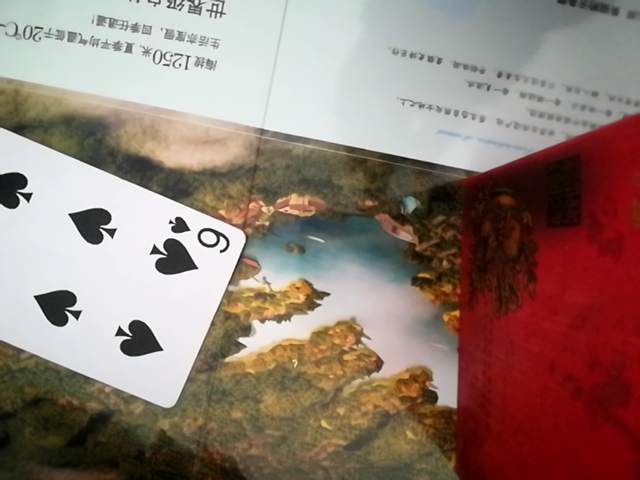ht 6: (0, 115, 247, 414)
